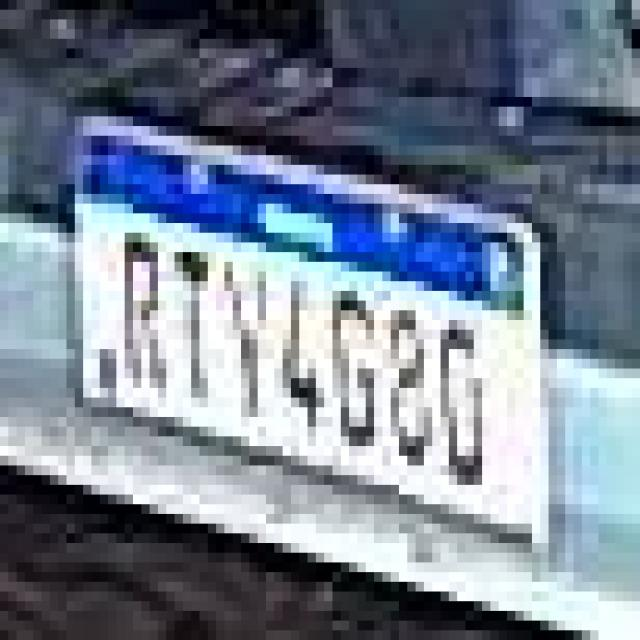0: (434, 320, 511, 485)
4: (281, 274, 328, 436)
8: (383, 301, 435, 466)
G: (325, 284, 383, 452)
R: (119, 218, 172, 392)
T: (171, 241, 218, 405)
V: (220, 258, 278, 423)
